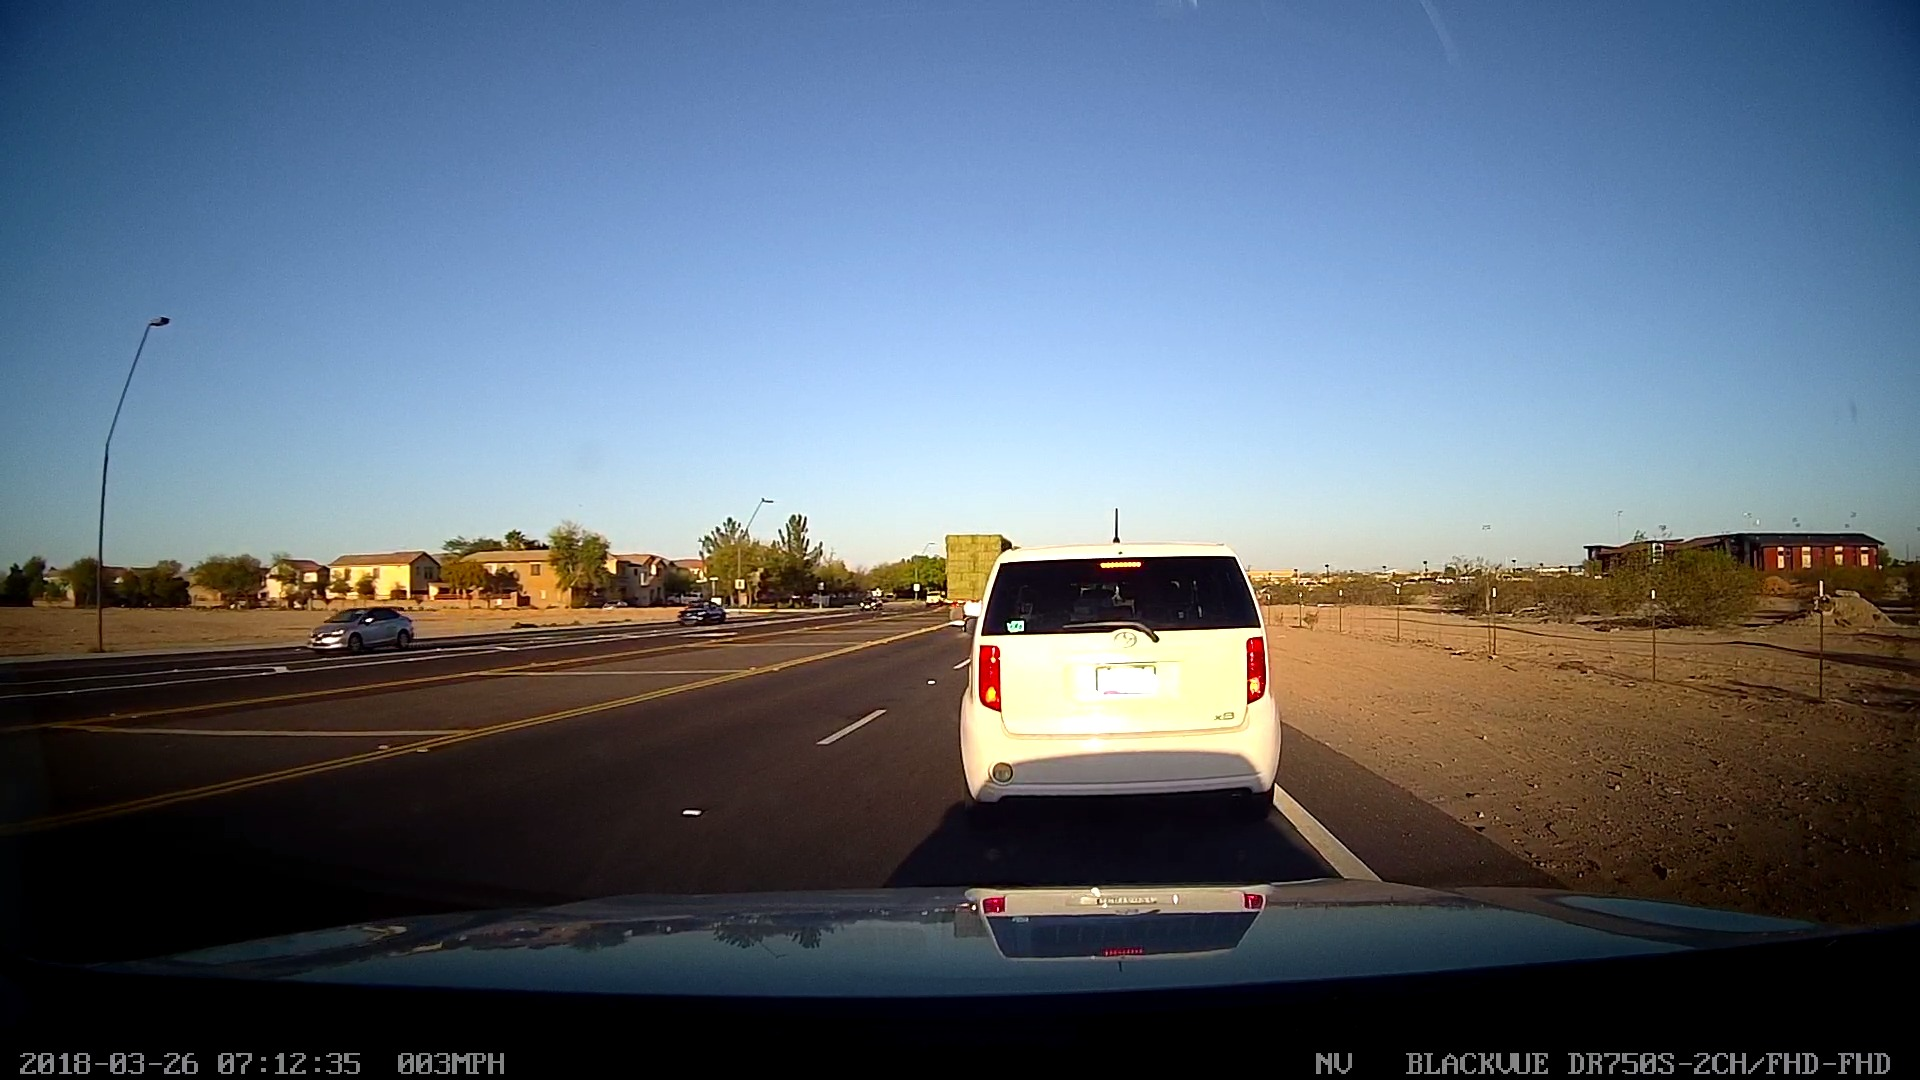plate: (1087, 657, 1173, 700)
vehicle: (955, 540, 1283, 812), (936, 526, 1011, 632), (304, 604, 415, 655), (673, 594, 721, 630)
